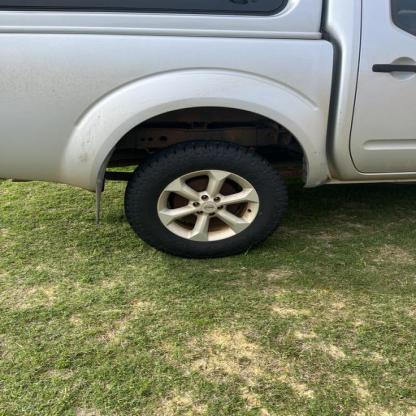Tire: (125, 141, 291, 258)
